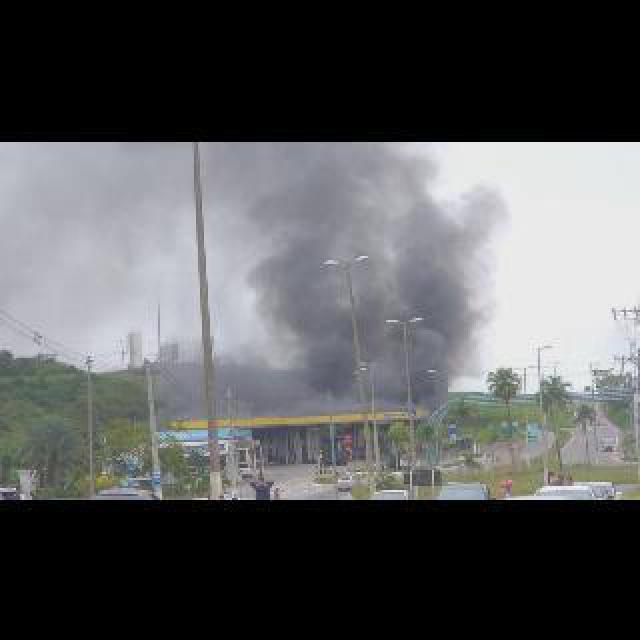Fire: (346, 434, 356, 444)
Smoke: (262, 158, 496, 406)
